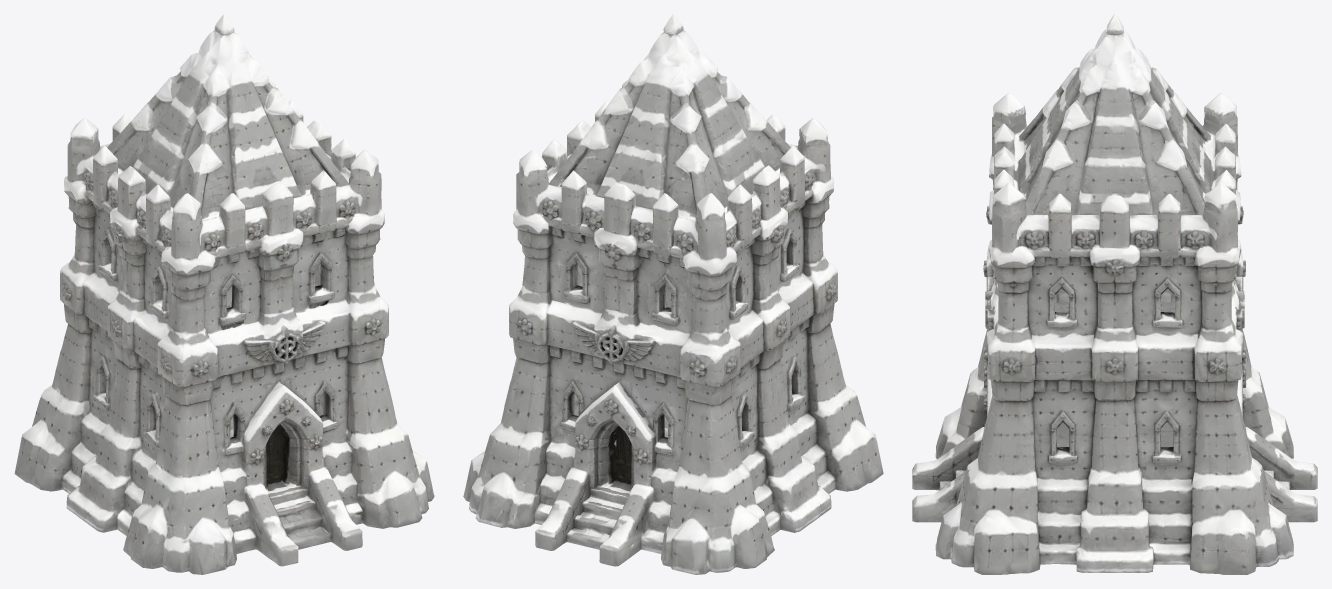
File: ColdKeep.glb
3 renders of one model, left to right at view 1: azimuth 30°, elevation 25°; view 2: azimuth 150°, elevation 25°; view 3: azimuth 270°, elevation 25°, orthographic. The views are drawn at different scales.
Size of the model in its own units: 1.23 by 1.9 by 1.43.
Materials: 1 (1 with a texture image).
